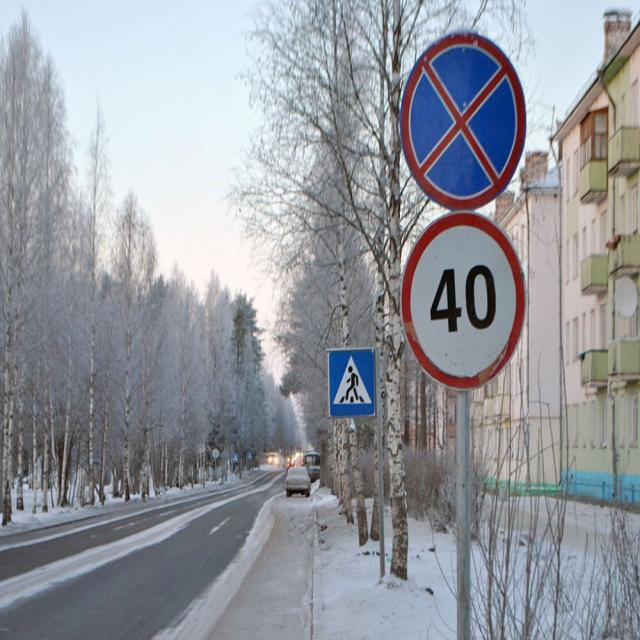Traffic sign: (395, 214, 544, 393), (399, 26, 527, 210), (326, 346, 378, 418)
